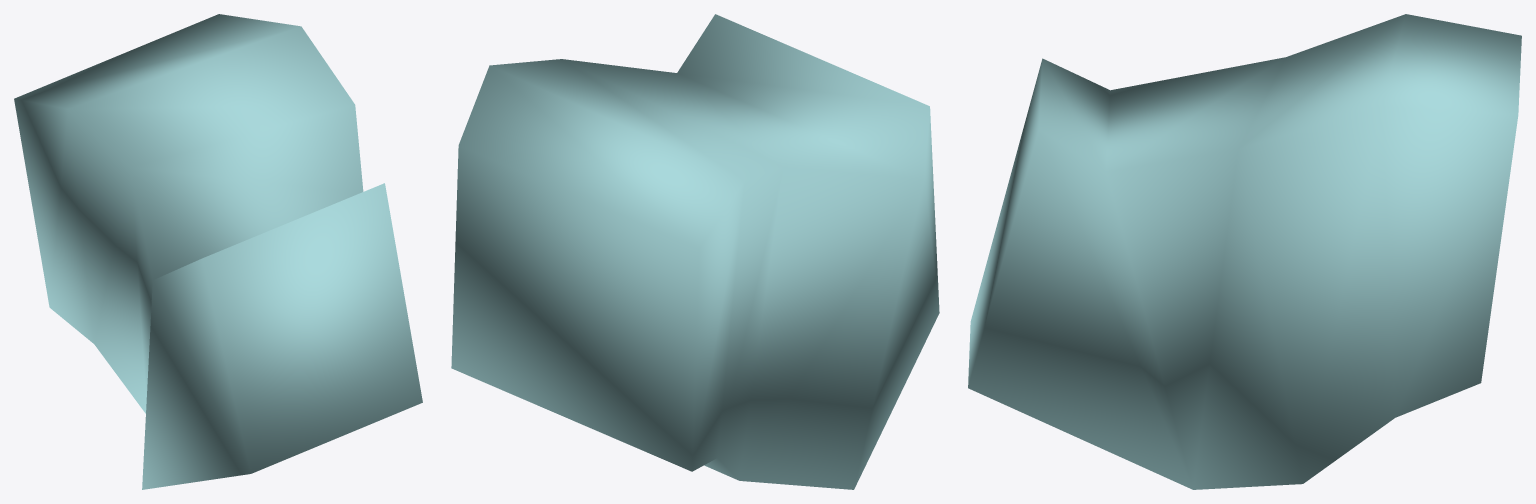
Rendered from skelly_foot_heel.R.fbx.
The picture shows the model from 3 angles, left to right: view 1: azimuth 30°, elevation 25°; view 2: azimuth 150°, elevation 25°; view 3: azimuth 270°, elevation 25°; orthographic projection. The views are drawn at different scales.
Parts seen in each view (by area): view 1: skelly_foot_heel.R; view 2: skelly_foot_heel.R; view 3: skelly_foot_heel.R.
Part boxes in pixels (left/top/right/bottom): skelly_foot_heel.R: left=14, top=14, right=422, bottom=489; skelly_foot_heel.R: left=451, top=14, right=939, bottom=489; skelly_foot_heel.R: left=968, top=14, right=1521, bottom=489.
Size of the model in its own units: 6.29 by 7.57 by 8.56.
